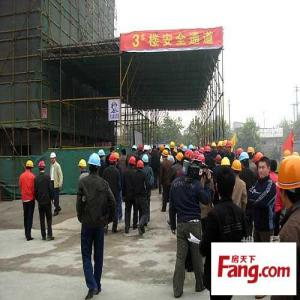blue: (89, 152, 101, 173), (240, 153, 250, 168), (142, 154, 150, 166), (99, 150, 106, 161), (183, 147, 188, 155), (132, 146, 138, 152)
none: (216, 170, 238, 203), (259, 157, 271, 179), (269, 159, 278, 175), (110, 147, 116, 155), (121, 149, 127, 156), (154, 146, 158, 151)
red: (186, 151, 195, 164), (129, 157, 137, 168), (236, 148, 244, 159), (40, 162, 47, 174), (138, 161, 145, 172), (216, 155, 222, 165), (205, 145, 211, 155), (227, 142, 233, 152)
white: (51, 152, 58, 165), (144, 146, 150, 155)
yellow: (280, 155, 300, 210), (232, 160, 242, 176), (79, 159, 88, 174), (222, 157, 231, 170), (176, 152, 185, 164), (247, 147, 255, 160), (26, 161, 35, 172), (163, 151, 170, 160), (115, 152, 120, 163), (223, 141, 228, 152), (171, 142, 176, 151), (219, 141, 223, 152), (212, 143, 217, 151), (161, 145, 165, 153)
